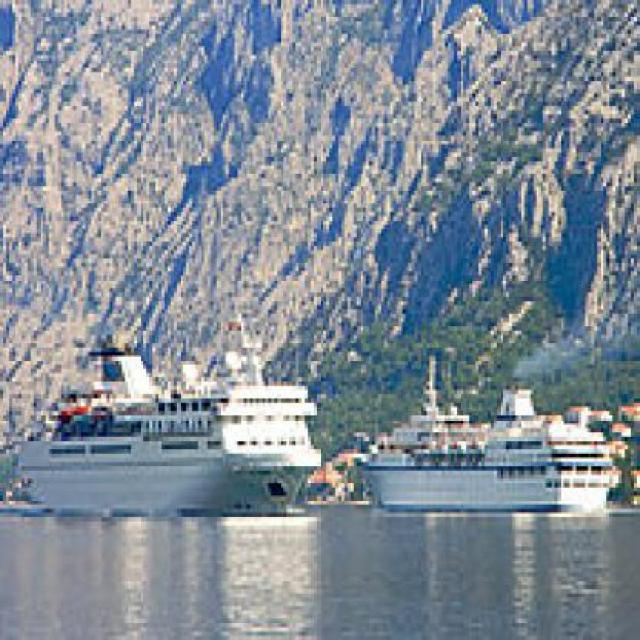cruise: (7, 309, 333, 531), (358, 349, 619, 527)
